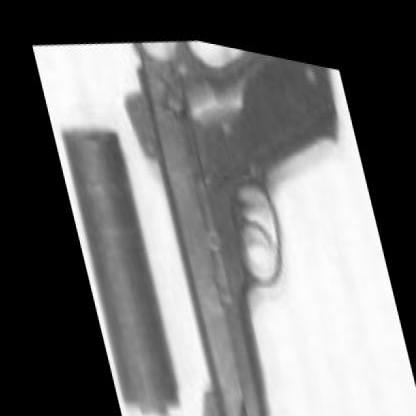pistol: (99, 16, 415, 415)
